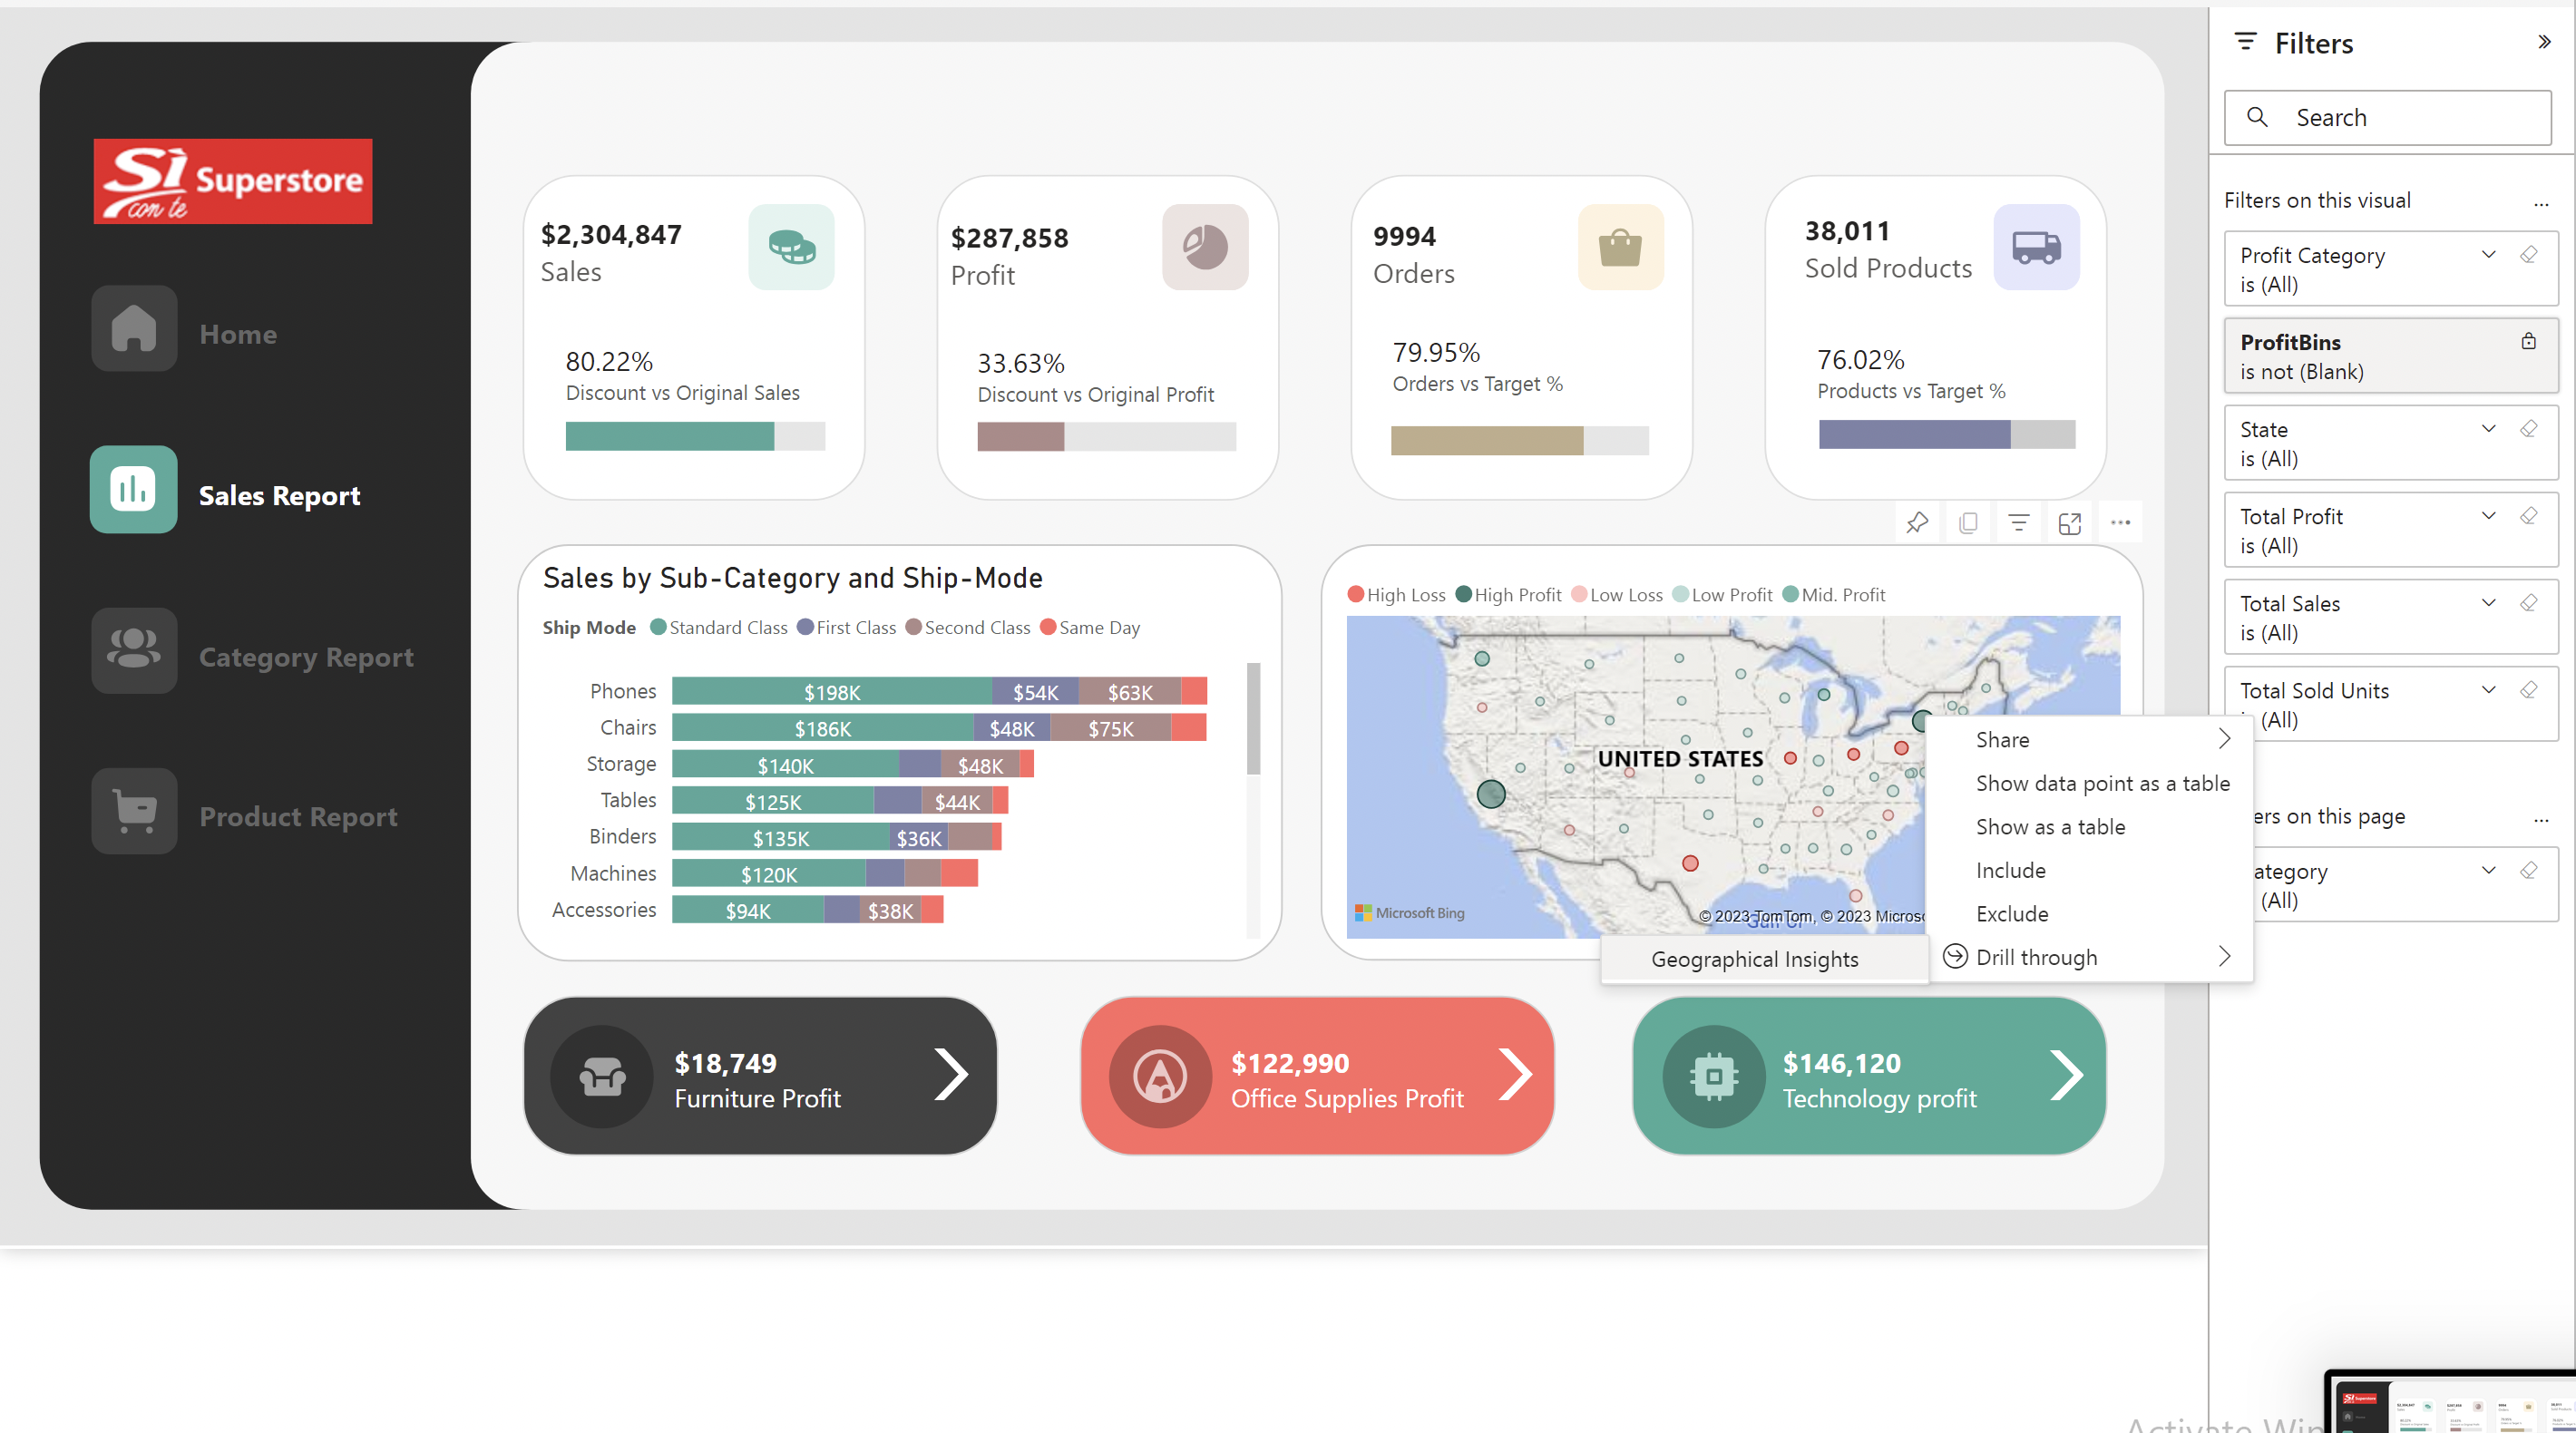

Layout of this report page (visuals, bound fields, positions):
{"tool":"powerbi","page":{"name":"Geographical Insights","canvas":[1280,720],"ordinal":4},"visuals":[{"type":"group","id":"g1","title":"Group 1","box":[0,0,1284.3,720.5],"z":0},{"type":"clusteredBarChart","title":"Profit by State","fields":{"Y":["Sum(SalesFact.Profit)"],"Category":["LocationDim.Country Hierarchy.City","LocationDim.Country Hierarchy.Postal Code"]},"box":[0,234.2,440.7,486.3],"z":0,"group":"g1"},{"type":"actionButton","box":[0,0,100,40],"z":1000},{"type":"card","title":"Total Profit/Loss","fields":{"Values":["Sum(SalesFact.Profit)"]},"box":[1020,3.4,260,162.7],"z":1000,"group":"g1"},{"type":"card","title":"Avarege Item Price","fields":{"Values":["Sum(SalesFact.Avg Item Price (after discount))"]},"box":[791.9,0,244.1,162],"z":2000},{"type":"lineClusteredColumnComboChart","fields":{"Category":["CategoryDim.Category Hierarchy.Category","CategoryDim.Category Hierarchy.Sub-Category"],"Y2":["Sum(SalesFact.Sales)"],"Y":["Sum(SalesFact.Profit)"]},"box":[456.4,211.1,827.5,507.5],"z":2000,"group":"g1"},{"type":"card","title":"State","fields":{"Values":["Min(LocationDim.State)"]},"box":[35.7,0,300.2,132.8],"z":3000},{"type":"card","title":"Total Sales","fields":{"Values":["Sum(SalesFact.Sales)"]},"box":[336.8,0,239.8,162],"z":3000,"group":"g1"},{"type":"card","title":"Total Sold Items","fields":{"Values":["Sum(SalesFact.Quantity)"]},"box":[563.8,0,228.1,166.3],"z":4000,"group":"g1"}]}

Visuals, with their boxes on the page's 1280x720 design canvas (x1, y1, x2, y2). These are canvas units, not pixel positions in the 2576x1433 screenshot, which may show the page scaled, cropped or inside an application window:
"Group 1" group: pyautogui.locateOnScreen(0, 0, 1284, 720)
"Profit by State" clusteredBarChart: pyautogui.locateOnScreen(0, 234, 441, 720)
actionButton: pyautogui.locateOnScreen(0, 0, 100, 40)
"Total Profit/Loss" card: pyautogui.locateOnScreen(1020, 3, 1280, 166)
"Avarege Item Price" card: pyautogui.locateOnScreen(792, 0, 1036, 162)
lineClusteredColumnComboChart - CategoryDim.Category Hierarchy.Category x CategoryDim.Category Hierarchy.Sub-Category: pyautogui.locateOnScreen(456, 211, 1284, 719)
"State" card: pyautogui.locateOnScreen(36, 0, 336, 133)
"Total Sales" card: pyautogui.locateOnScreen(337, 0, 577, 162)
"Total Sold Items" card: pyautogui.locateOnScreen(564, 0, 792, 166)
